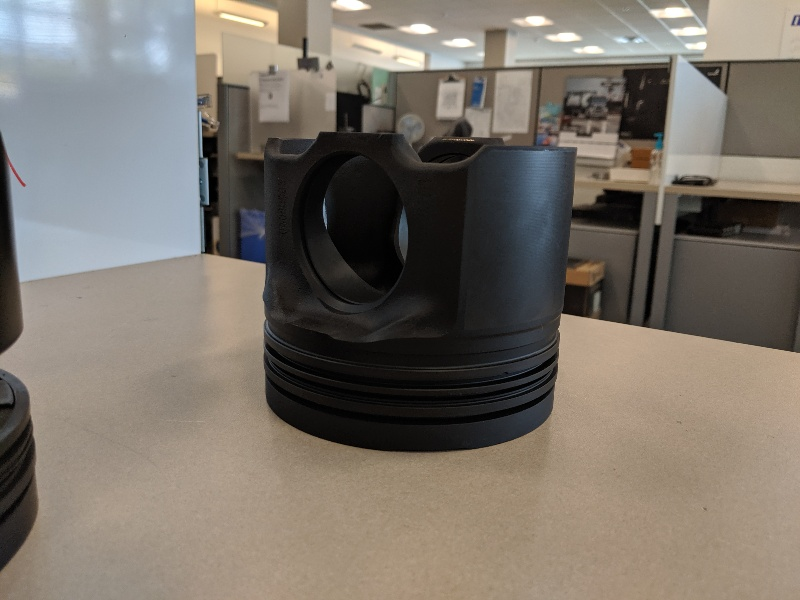piston: (255, 121, 582, 461)
